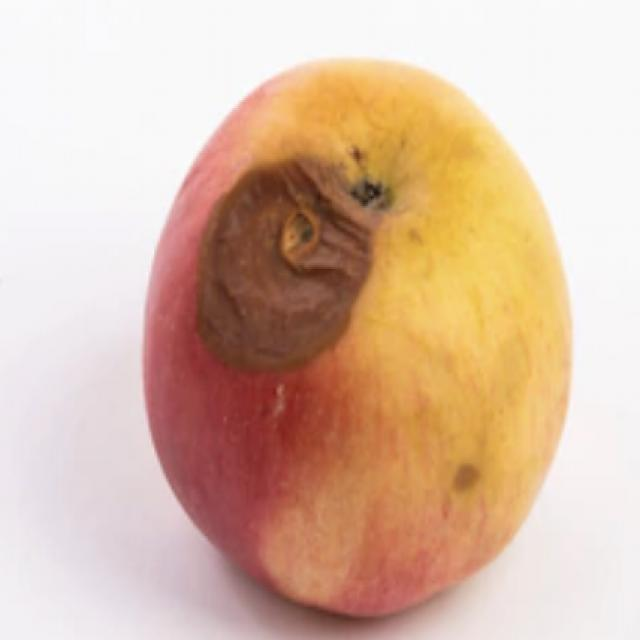Rotten: (133, 52, 582, 623)
